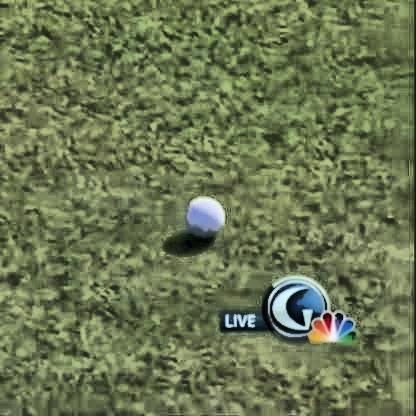golfball: (183, 195, 222, 234)
